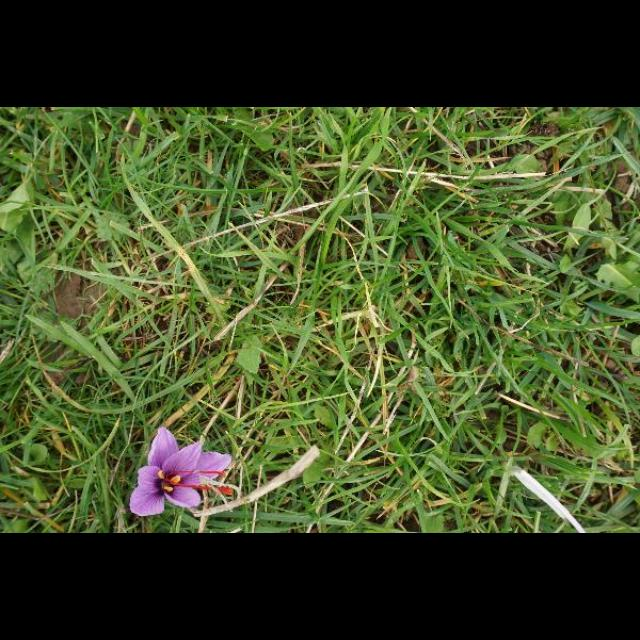flower: (130, 427, 232, 517)
